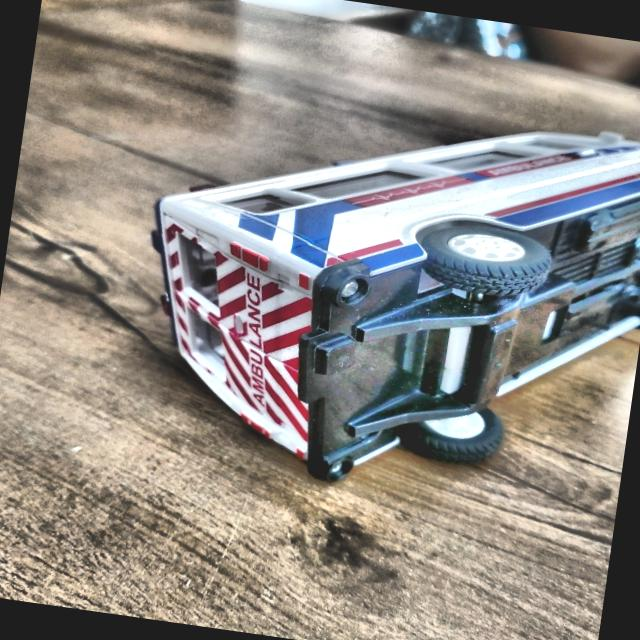Ambulance: (114, 77, 640, 527)
